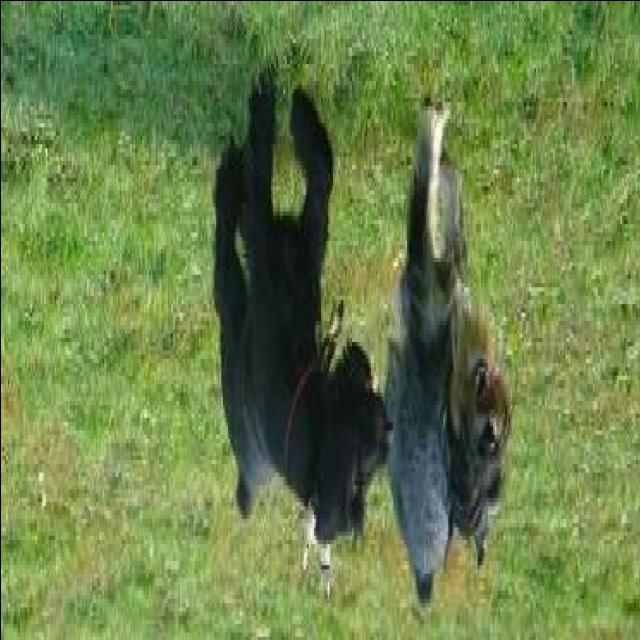standard_schnauzer: (210, 68, 396, 552), (384, 71, 518, 614)
